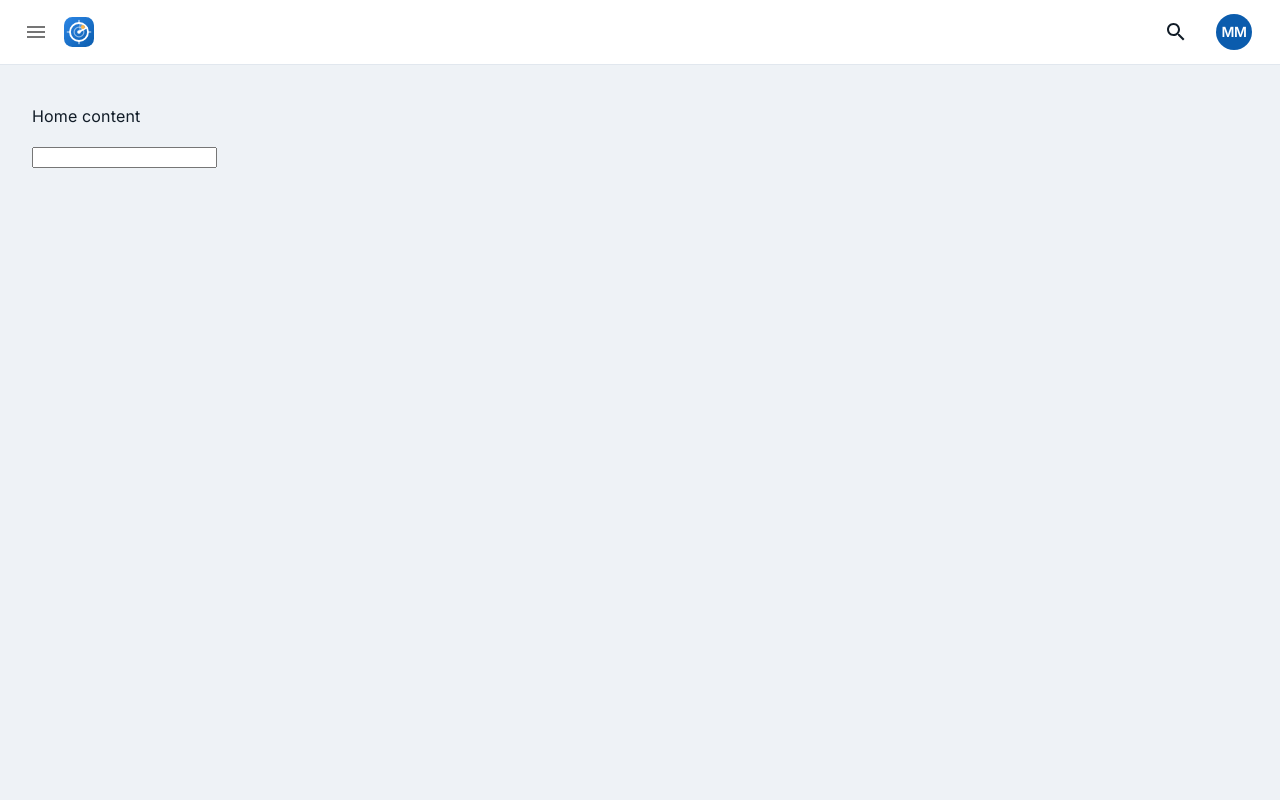
it: Layout › Layout shows drawer button on mobile width
The width and height of the screenshot is (1280, 800).
Click the button named "open navigation" at (36, 32), box [16,12,56,52]
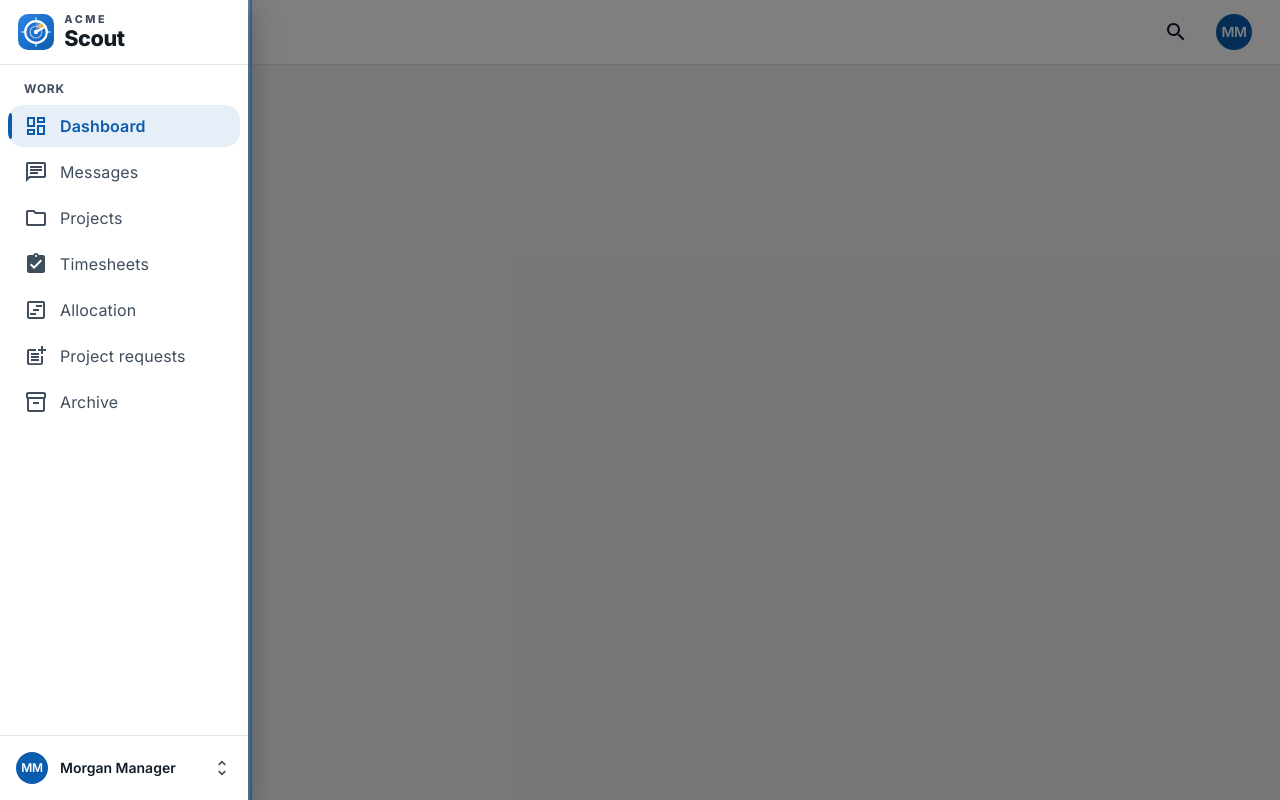
Check: the navigation bar named "main" shows "Timesheets", box [8,243,240,285]
